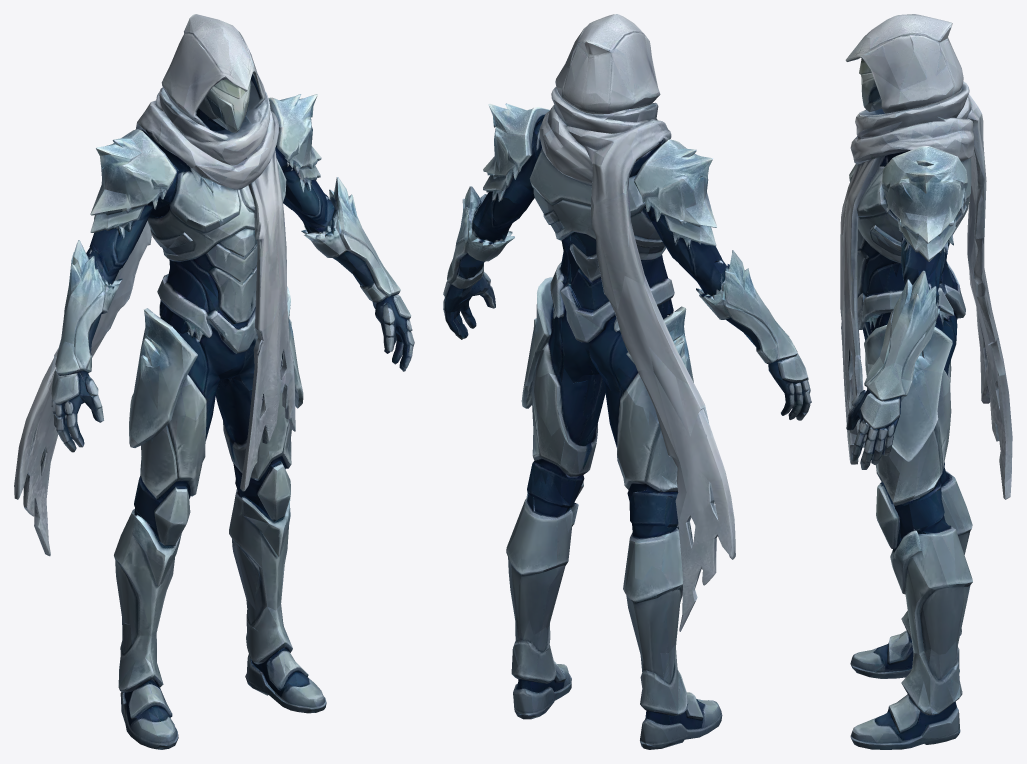
File: model-open.glb
The picture shows the model from 3 angles, left to right: view 1: azimuth 30°, elevation 25°; view 2: azimuth 150°, elevation 25°; view 3: azimuth 270°, elevation 25°; orthographic projection.
Parts seen in each view (by area): view 1: mesh_node; view 2: mesh_node; view 3: mesh_node.
Part boxes in pixels (box(x1,y1,x2,y2)): mesh_node: box(14, 14, 414, 749); mesh_node: box(443, 14, 811, 749); mesh_node: box(840, 14, 1012, 749).
Bounding box in the file's own units: 1.03 × 1.9 × 0.4299.
1 material, 1 textured.
